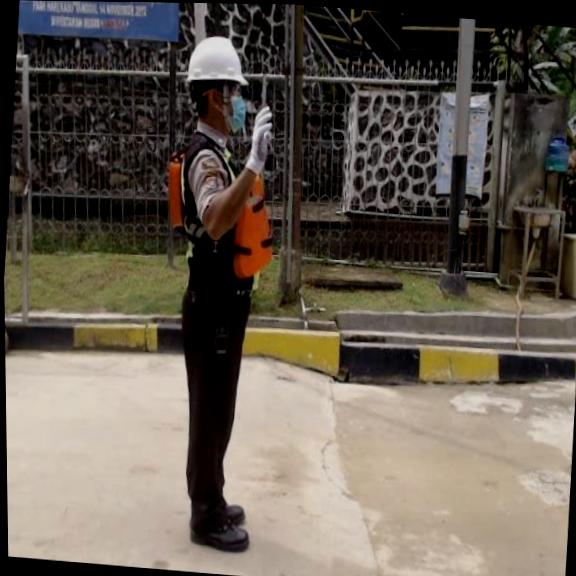safety_vest: (150, 157, 283, 290)
